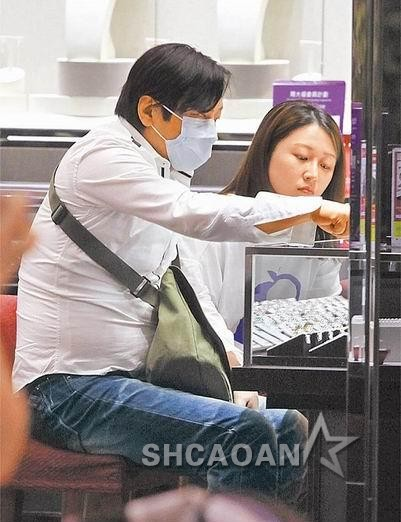mask: (162, 98, 247, 174)
